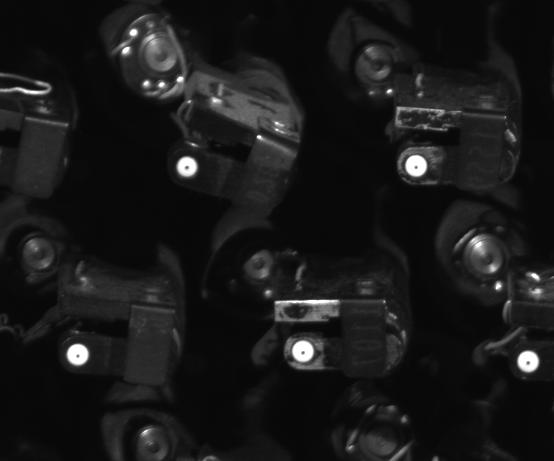fiber: (397, 149, 436, 184), (287, 333, 320, 369), (62, 338, 96, 372), (510, 344, 544, 377), (174, 153, 204, 180)
